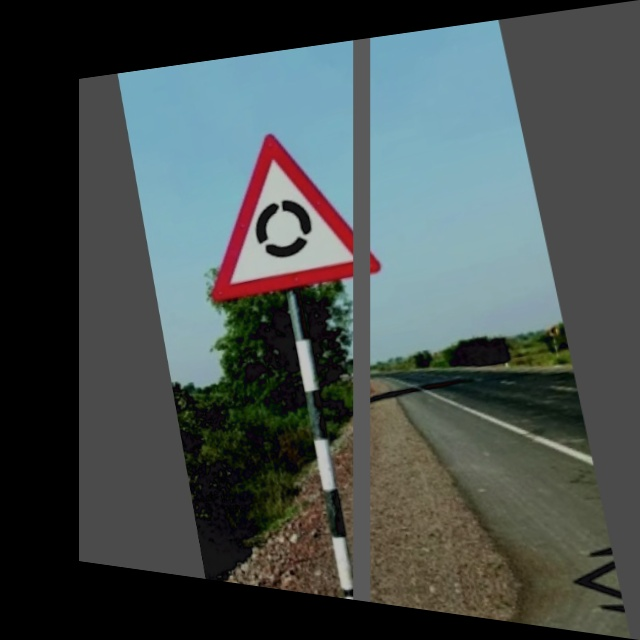Round_About: (181, 100, 393, 311)
